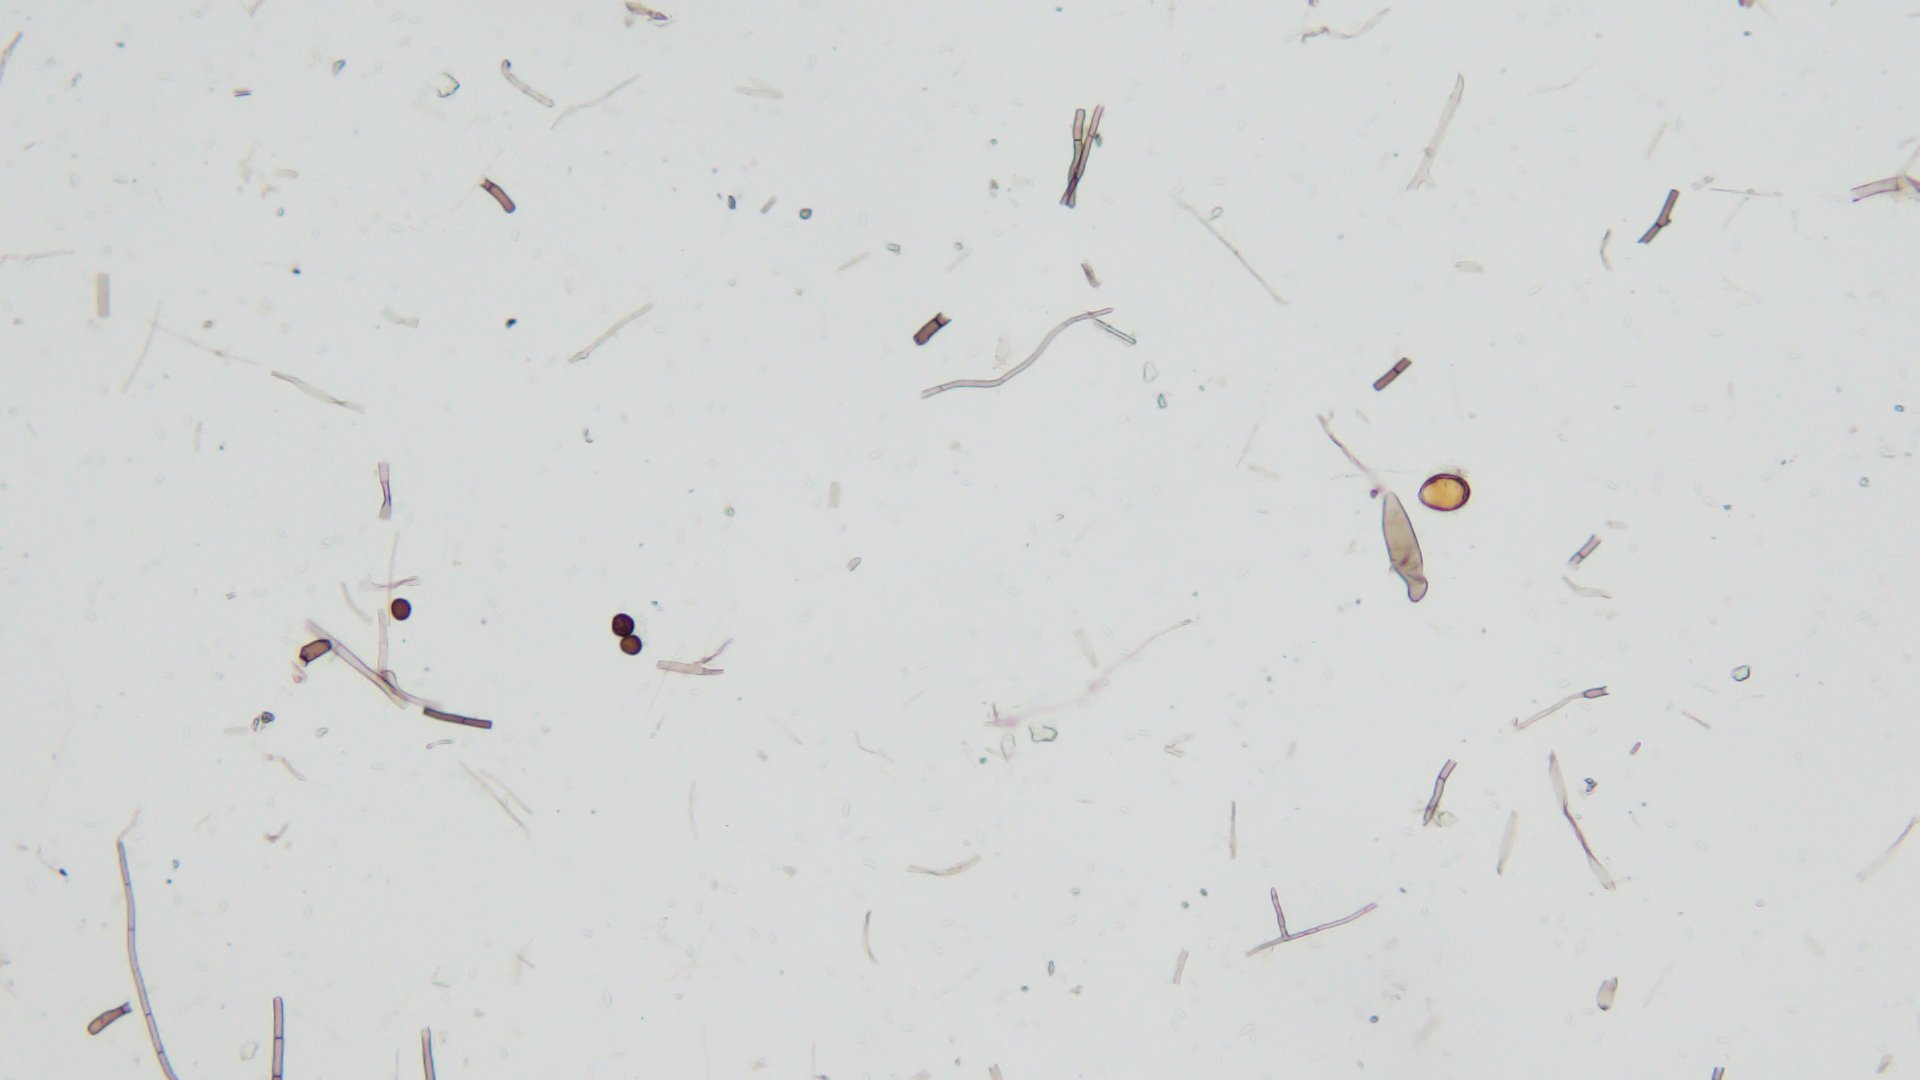dbb_spore: (1375, 492, 1433, 604)
shs_spore: (611, 612, 633, 636), (386, 599, 411, 620), (618, 636, 644, 654)
xb_spore: (1414, 475, 1472, 510)
